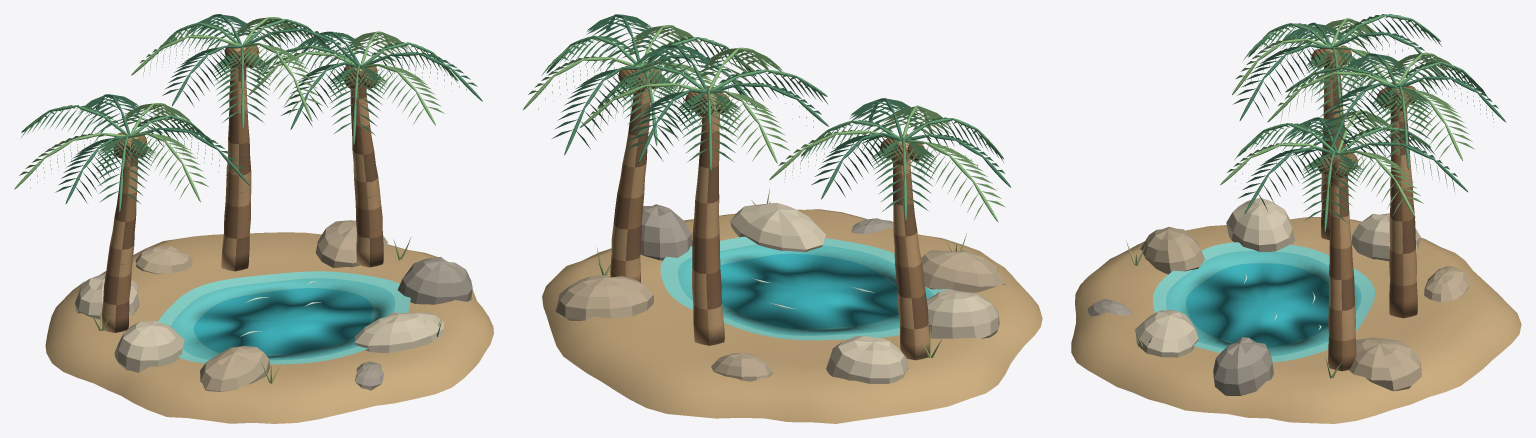
File: oasis_pequeno.glb
The picture shows the model from 3 angles, left to right: view 1: azimuth 30°, elevation 25°; view 2: azimuth 150°, elevation 25°; view 3: azimuth 270°, elevation 25°; orthographic projection. The views are drawn at different scales.
Parts seen in each view (by area): view 1: Ilha baixa de areia, Oásis | Reflexos suaves, Oásis | Palmeira | anéis escuros, Oásis | Folhas | verde esmeralda, Oásis | Folhas | verde profundo, Oásis | Folhas | verde ao sol, Oásis | Pedra calcária clara, Oásis | Pedra ocre, Oásis | Pedra sombreada, Oásis | Cocos maduros; view 2: Ilha baixa de areia, Oásis | Reflexos suaves, Oásis | Palmeira | anéis escuros, Oásis | Pedra calcária clara, Oásis | Folhas | verde esmeralda, Oásis | Folhas | verde profundo, Oásis | Folhas | verde ao sol, Oásis | Pedra ocre, Oásis | Pedra sombreada, Oásis | Cocos maduros; view 3: Ilha baixa de areia, Oásis | Reflexos suaves, Oásis | Palmeira | anéis escuros, Oásis | Folhas | verde esmeralda, Oásis | Folhas | verde profundo, Oásis | Folhas | verde ao sol, Oásis | Pedra calcária clara, Oásis | Pedra ocre, Oásis | Pedra sombreada, Oásis | Cocos maduros.
Part boxes in pixels (x1,y1,x2,y2): Ilha baixa de areia: (45,232,493,423); Oásis | Reflexos suaves: (158,271,410,364); Oásis | Palmeira | anéis escuros: (101,47,383,332); Oásis | Folhas | verde esmeralda: (21,19,458,213); Oásis | Folhas | verde profundo: (55,14,482,203); Oásis | Folhas | verde ao sol: (14,17,444,202); Oásis | Pedra calcária clara: (74,273,444,372); Oásis | Pedra ocre: (135,220,387,391); Oásis | Pedra sombreada: (354,256,472,390); Oásis | Cocos maduros: (113,44,377,158); Ilha baixa de areia: (542,209,1042,423); Oásis | Reflexos suaves: (660,236,946,340); Oásis | Palmeira | anéis escuros: (610,69,930,360); Oásis | Pedra calcária clara: (730,203,999,383); Oásis | Folhas | verde esmeralda: (541,35,1003,222); Oásis | Folhas | verde profundo: (552,14,1010,199); Oásis | Folhas | verde ao sol: (522,25,1005,221); Oásis | Pedra ocre: (555,250,1005,381); Oásis | Pedra sombreada: (640,204,893,260); Oásis | Cocos maduros: (618,62,924,165); Ilha baixa de areia: (1071,217,1521,423); Oásis | Reflexos suaves: (1152,242,1374,362); Oásis | Palmeira | anéis escuros: (1321,48,1417,371); Oásis | Folhas | verde esmeralda: (1234,14,1488,233); Oásis | Folhas | verde profundo: (1233,22,1506,213); Oásis | Folhas | verde ao sol: (1220,18,1474,217); Oásis | Pedra calcária clara: (1135,198,1420,357); Oásis | Pedra ocre: (1140,226,1469,391); Oásis | Pedra sombreada: (1087,299,1273,395); Oásis | Cocos maduros: (1311,43,1416,178).
Bounding box in the file's own units: 4.24 × 2.52 × 3.76.
